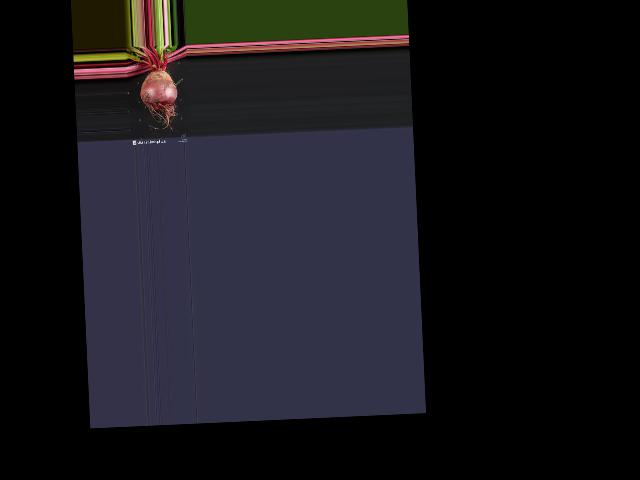beet: (125, 44, 179, 134)
